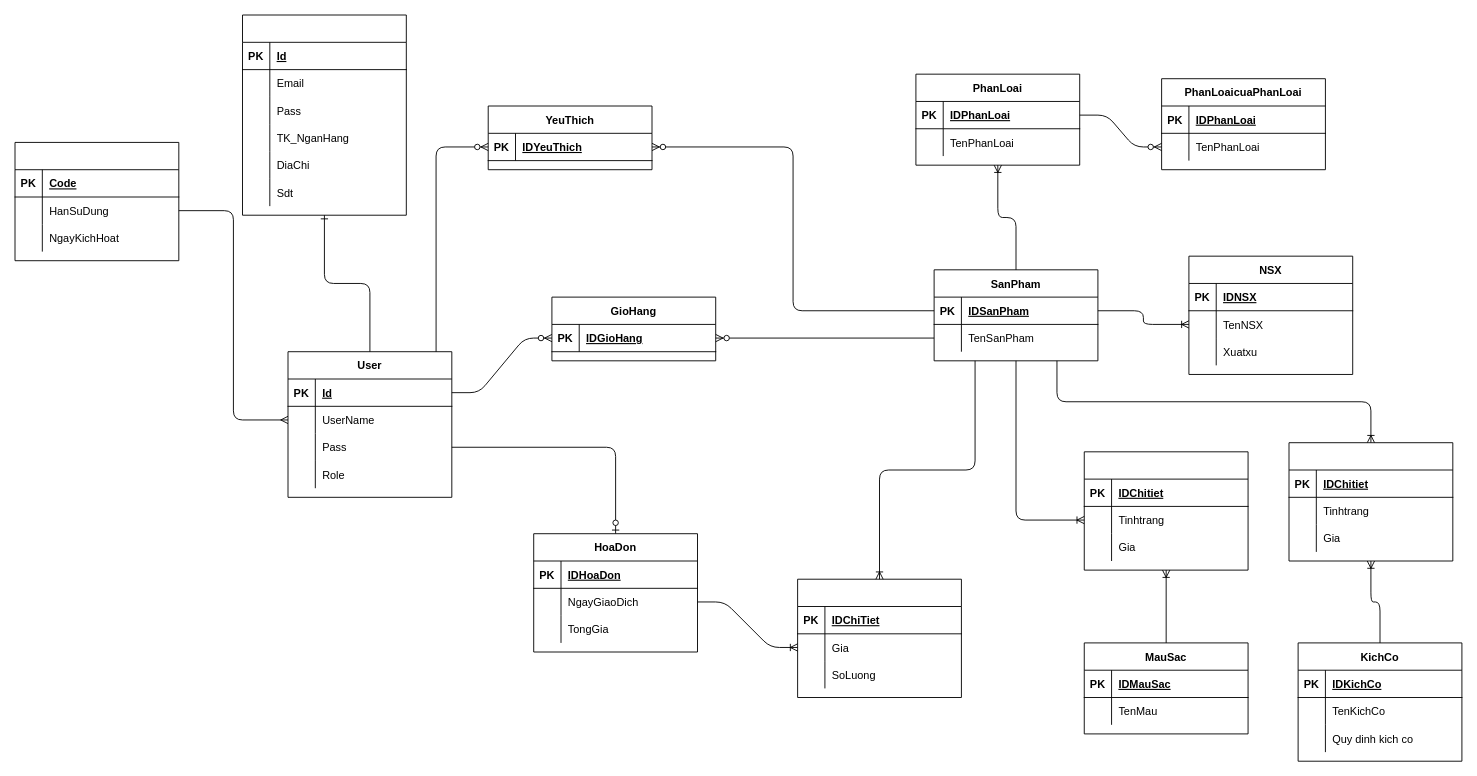
Image size: 1477x776. Some labels were removed from this diagram. Here are the shapes that lost their labels. From the top down, the box of each, then its label:
(242, 14, 406, 215): UserInfo
(14, 142, 179, 261): QuenPass
(1083, 451, 1248, 570): ChiTietMauSac
(1288, 442, 1453, 561): ChiTietKichCo
(797, 578, 961, 698): ChiTietHoaDon
